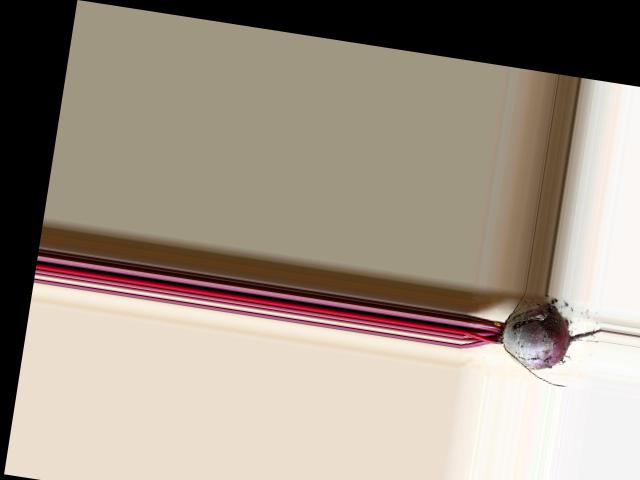beet: (458, 292, 605, 391)
